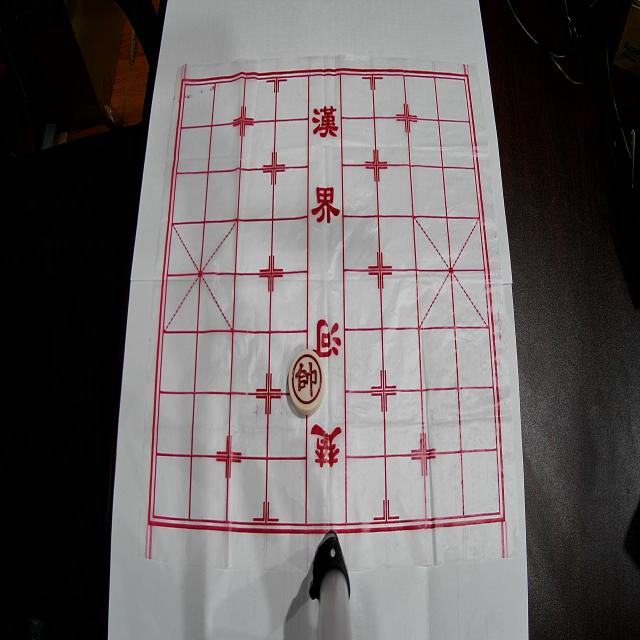red-general: (288, 349, 325, 415)
